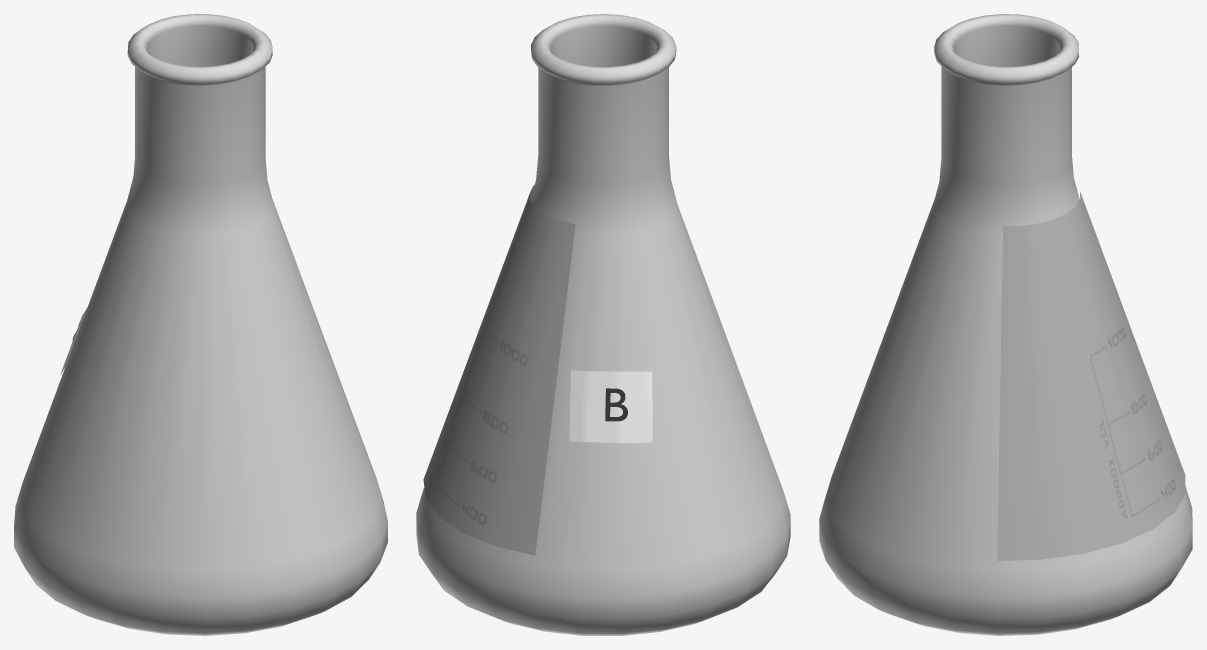
Rendered from solnB.fbx.
3 views of the same model, side by side, from view 1: azimuth 30°, elevation 25°; view 2: azimuth 150°, elevation 25°; view 3: azimuth 270°, elevation 25° (orthographic).
Visible parts, largest first — view 1: Conical_flask_mid_glas_0.001; view 2: Conical_flask_mid_glas_0.001, label; view 3: Conical_flask_mid_glas_0.001.
Boxes of the visible parts, x1,y1,x2,y2 form: Conical_flask_mid_glas_0.001: (14,14,387,635); Conical_flask_mid_glas_0.001: (416,14,790,635); label: (569,370,652,442); Conical_flask_mid_glas_0.001: (819,14,1192,635).
Bounding box in the file's own units: 8.52 × 13.26 × 8.51.
Materials: 4 (1 with a texture image).
